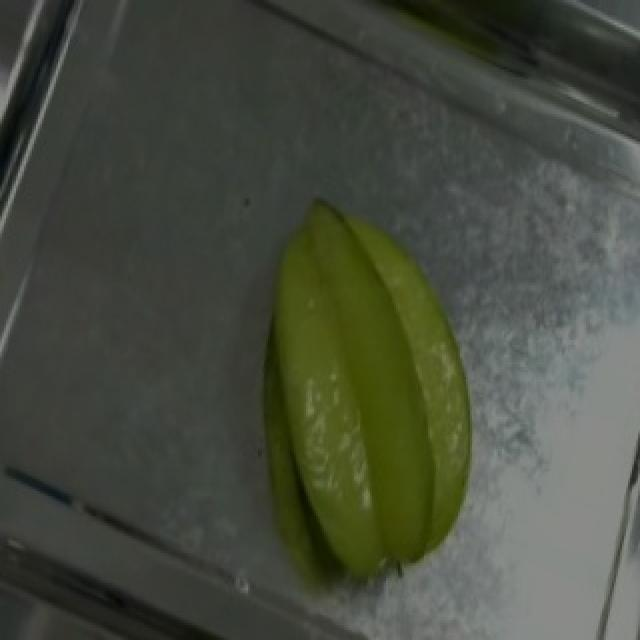fruit: (248, 174, 528, 586)
